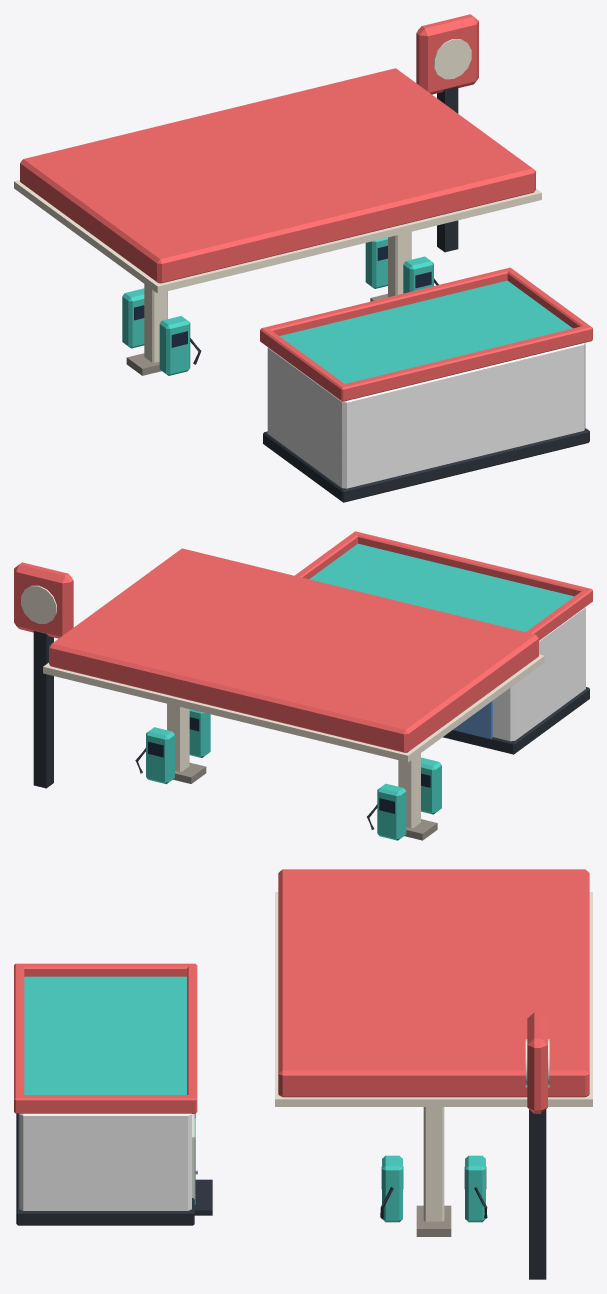
The model's file is bld_fuel.glb.
The picture shows the model from 3 angles, top to bottom: view 1: azimuth 30°, elevation 25°; view 2: azimuth 150°, elevation 25°; view 3: azimuth 270°, elevation 25°; orthographic projection. The views are drawn at different scales.
Parts seen in each view (by area): view 1: bld_fuel; view 2: bld_fuel; view 3: bld_fuel.
Part boxes in pixels (left/top/right/bottom): bld_fuel: left=14, top=14, right=592, bottom=502; bld_fuel: left=14, top=531, right=592, bottom=840; bld_fuel: left=14, top=869, right=592, bottom=1279.
Size of the model in its own units: 16.2 by 8.08 by 16.75.
